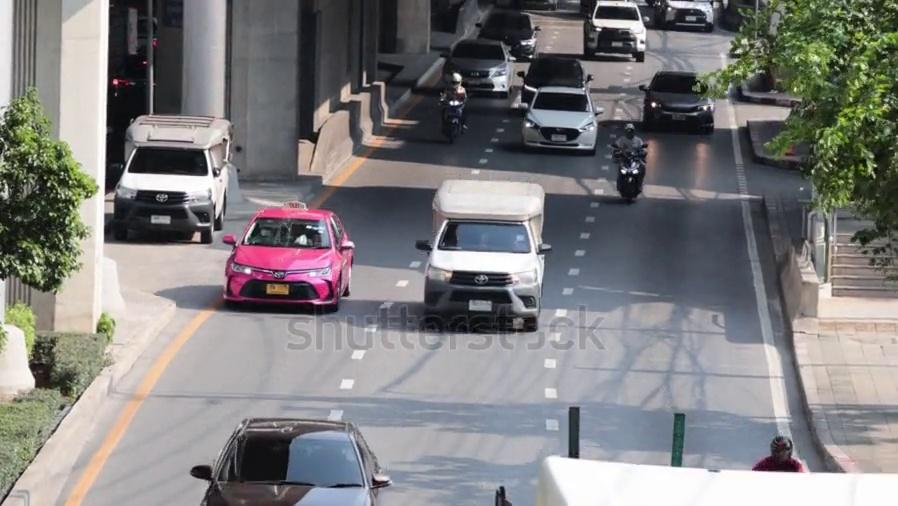rider: (611, 122, 648, 188), (438, 72, 468, 142), (751, 435, 805, 472)
with_helmate: (770, 438, 794, 460)
